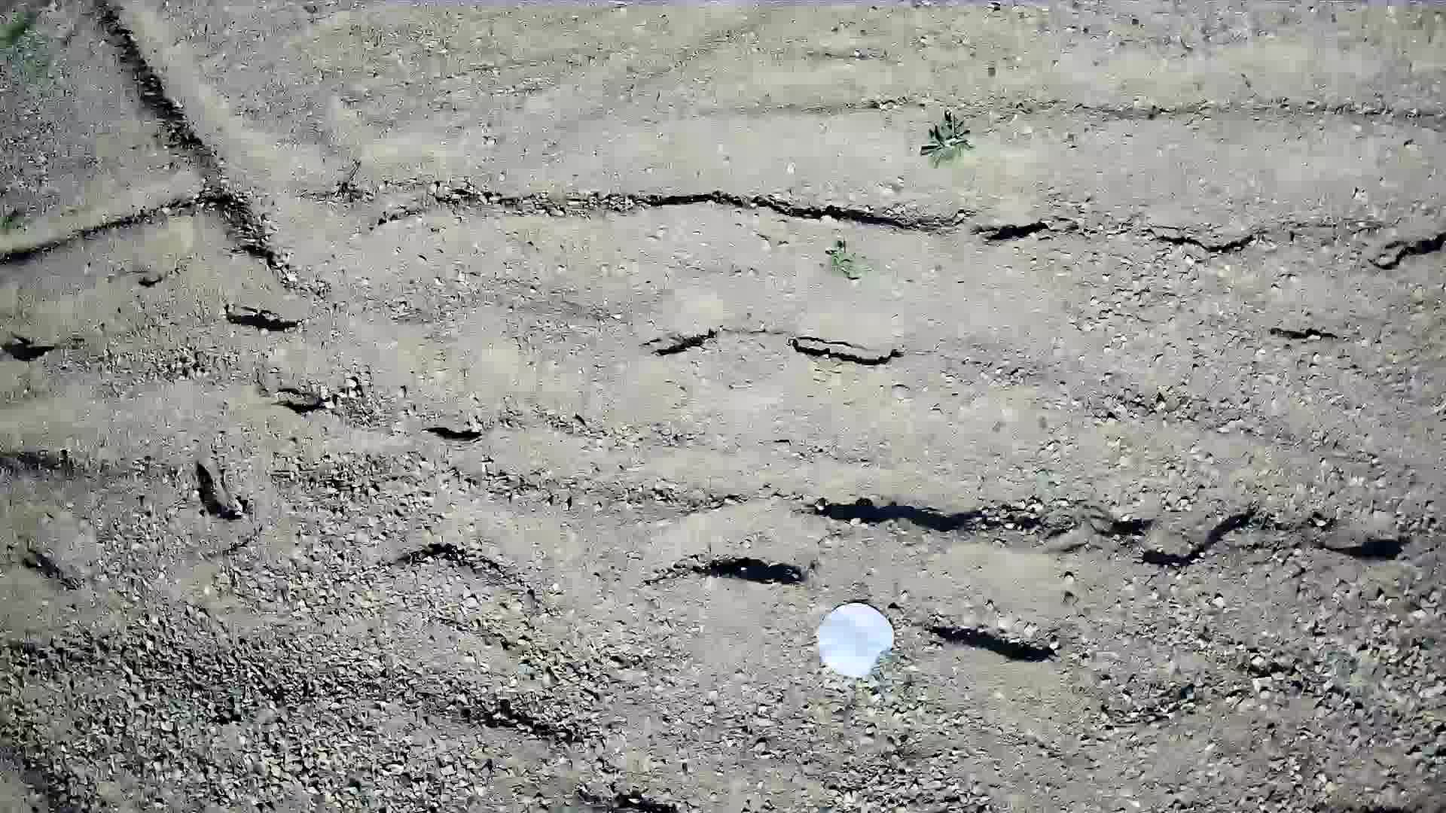Target: (811, 602, 897, 673)
